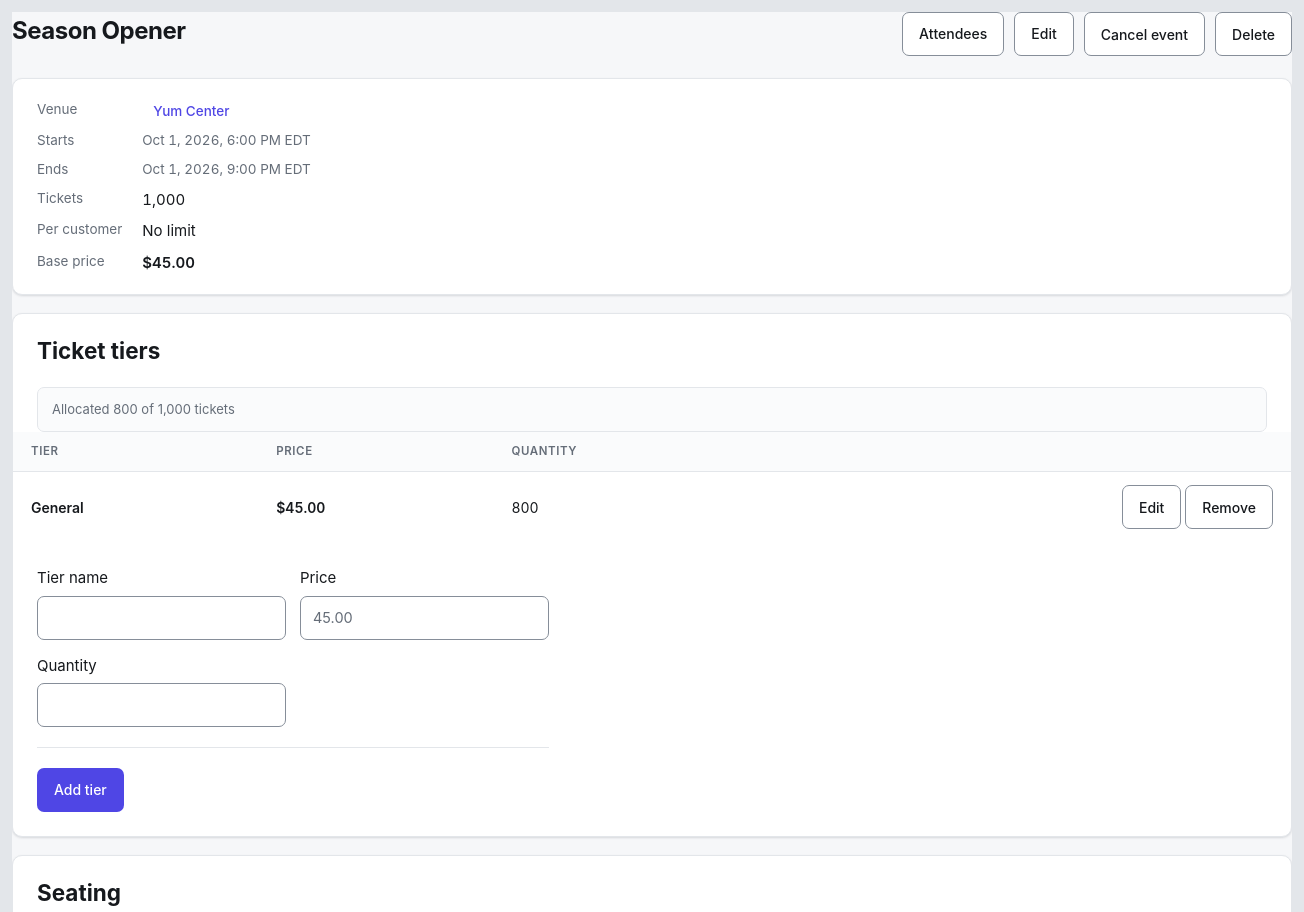
Scenario: Ticket tiers on the event page › adds a tier with the typed values and shows it
The width and height of the screenshot is (1304, 912).
Expected: the text "General" is shown, [13,472,258,542]
Type "VIP" into the field labelled "Tier name".
click(162, 618); type("VIP")  # box [37,596,286,640]
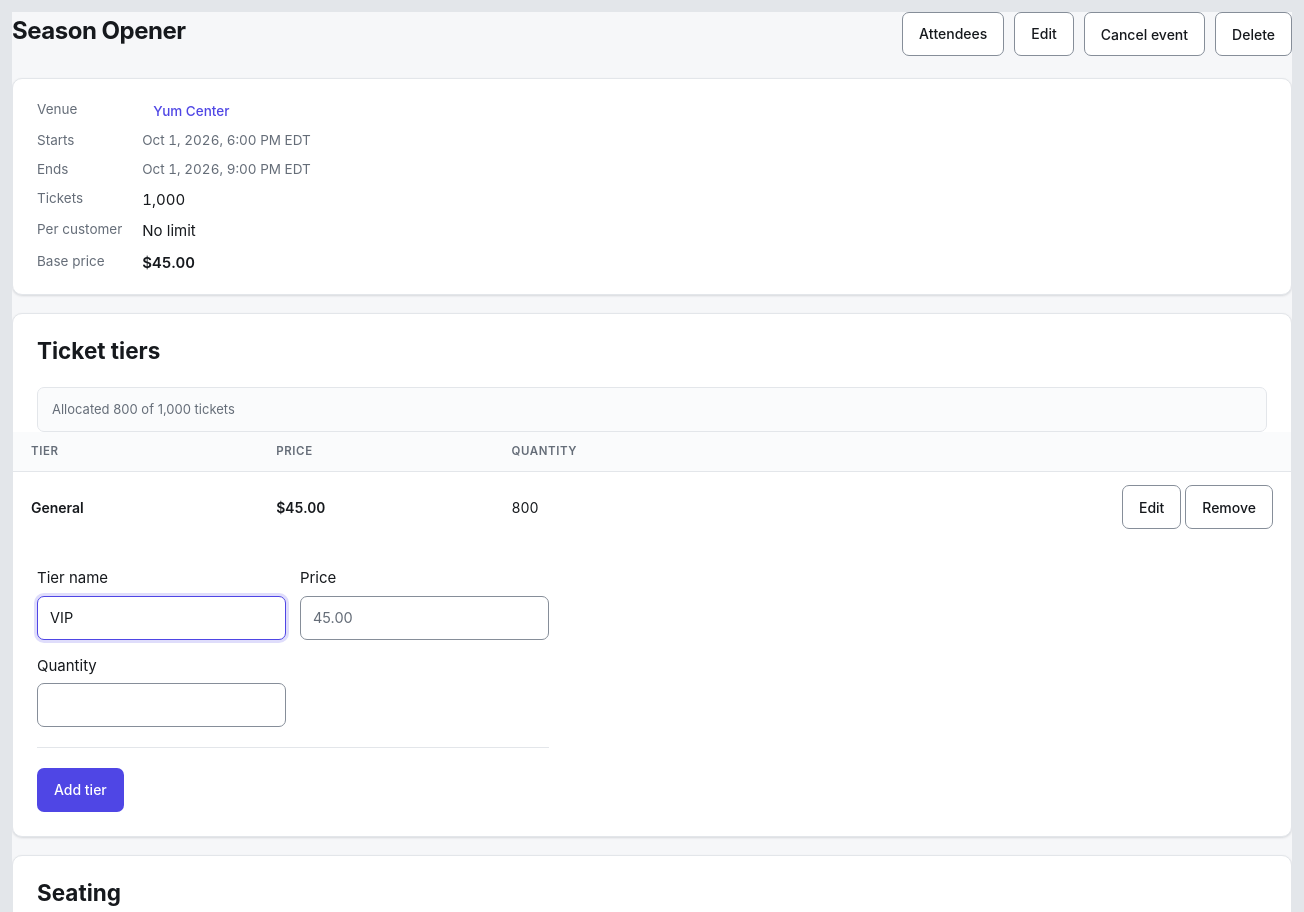
Type "120" into the field labelled "Price".
click(424, 618); type("120")  # box [300,596,549,640]
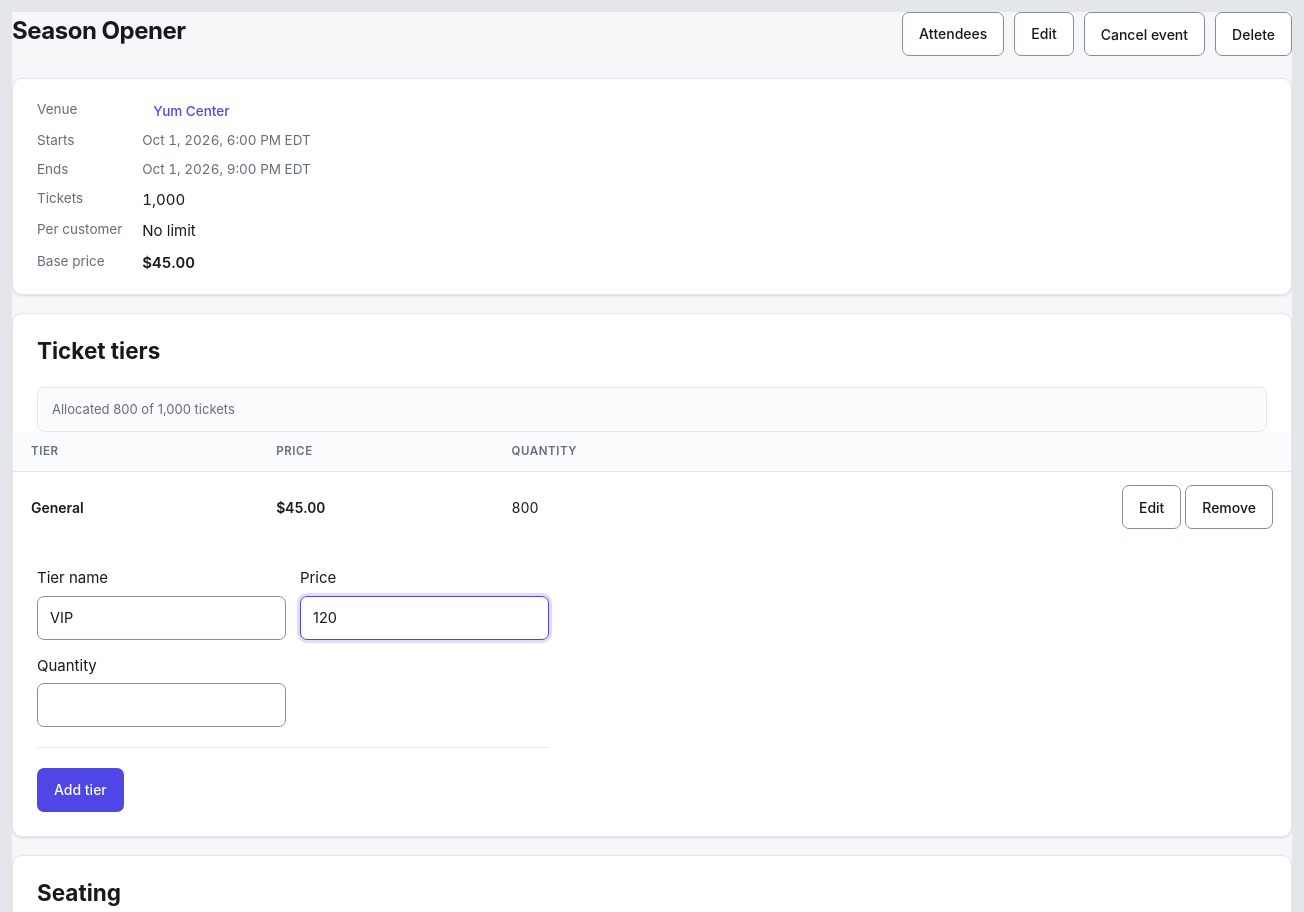
Type "100" into the number field labelled "Quantity".
click(162, 705); type("100")  # box [37,683,286,727]
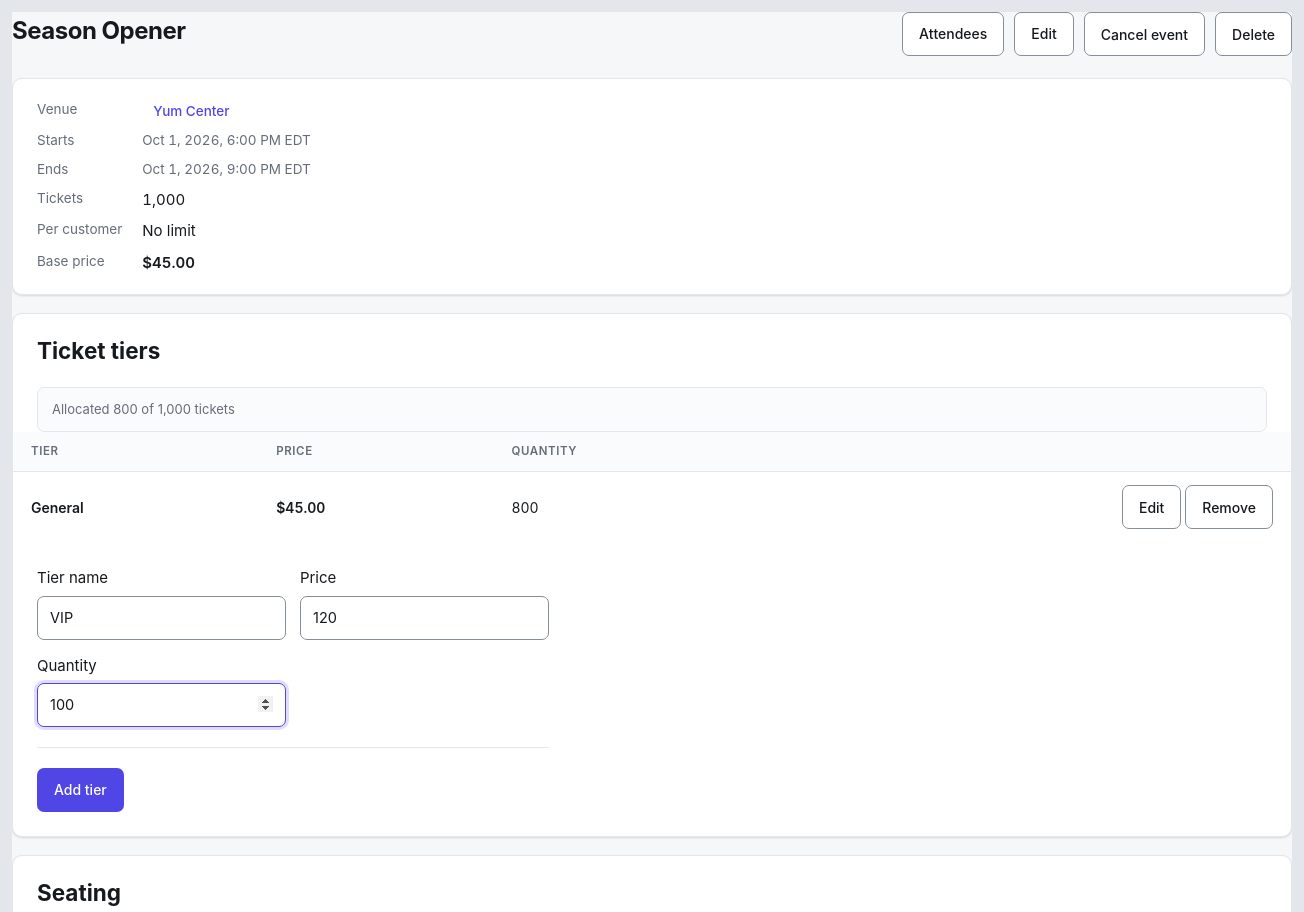
Click the button "Add tier".
click(80, 790)  # box [37,768,124,812]
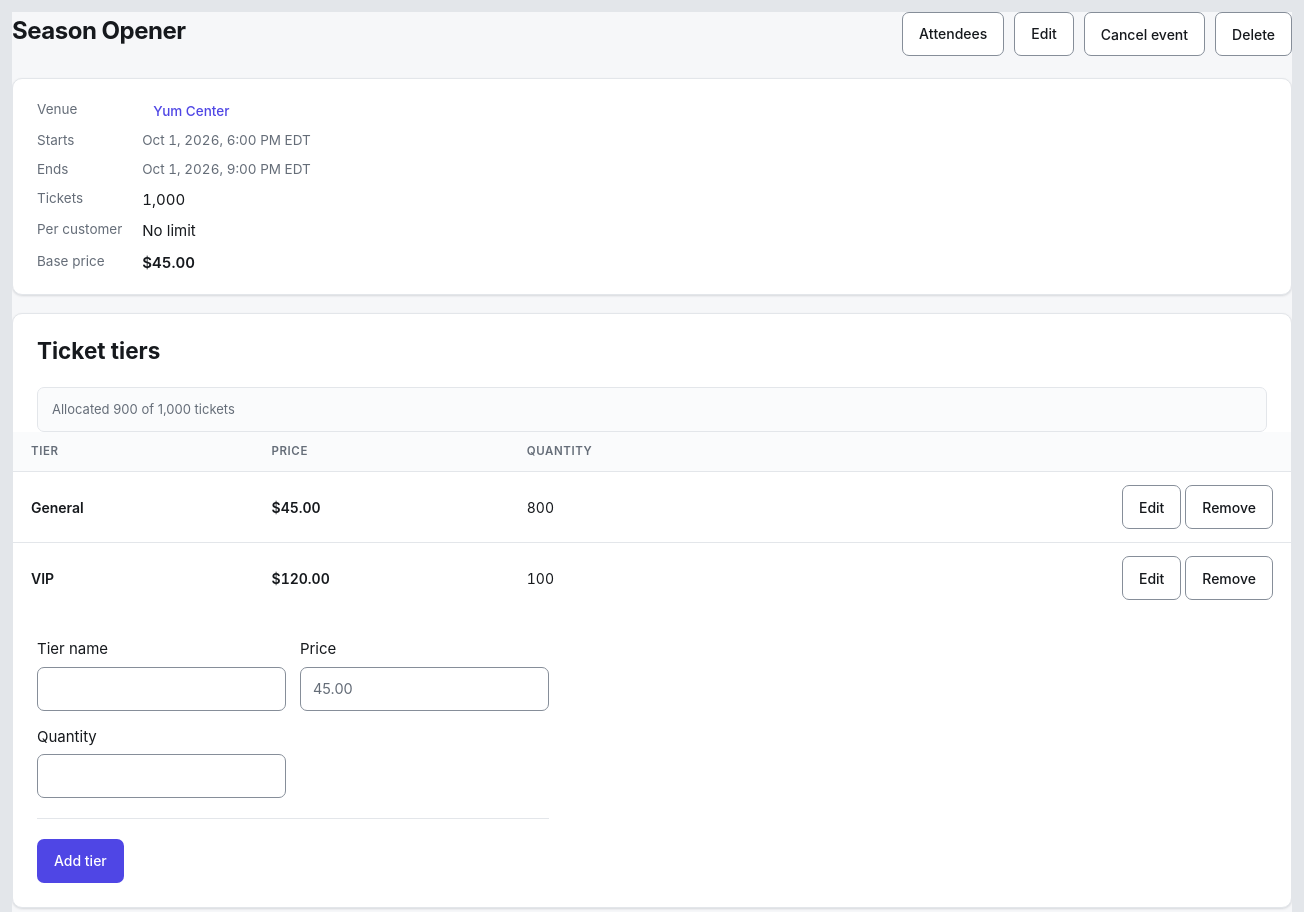
Expected: the text "VIP" is shown, [13,543,254,613]
Expected: the field labelled "Tier name" is empty, [37,667,286,711]
